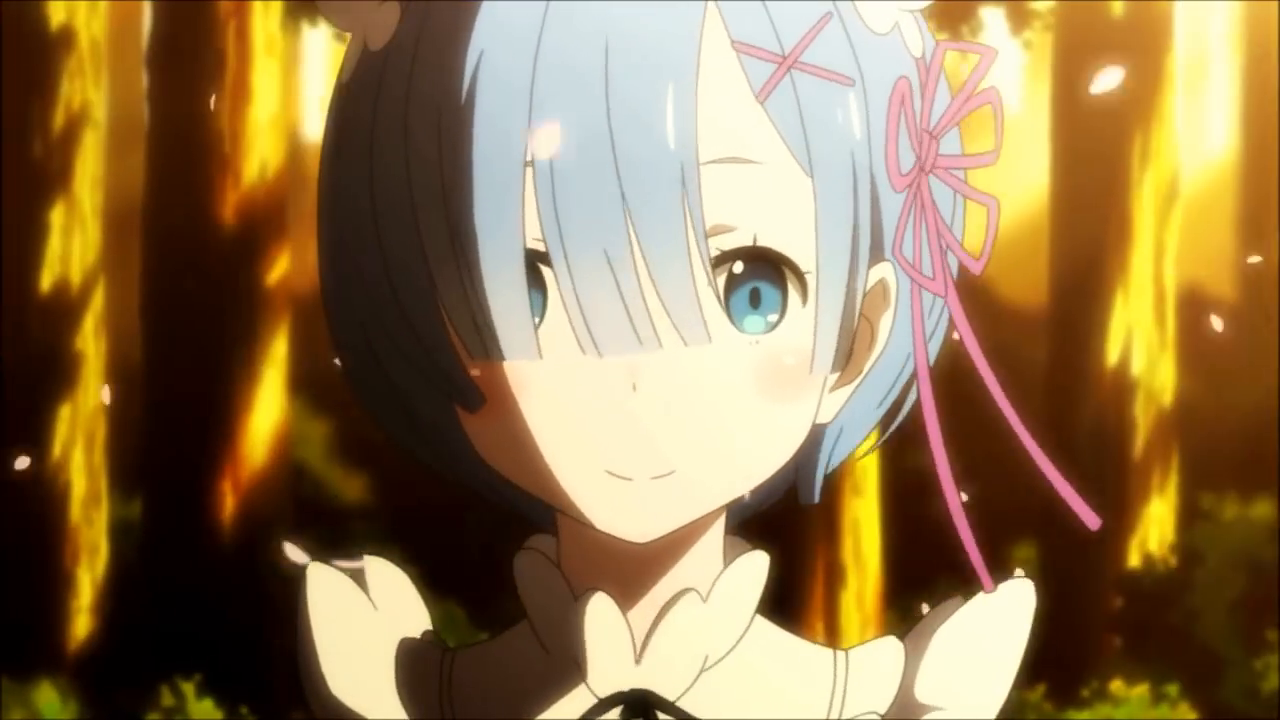REM: (280, 1, 1012, 545)
